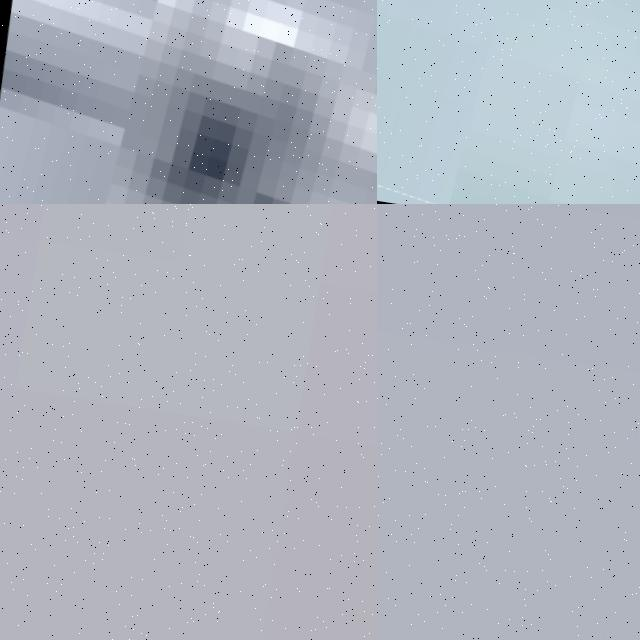drone: (0, 0, 377, 204), (377, 0, 640, 204)
